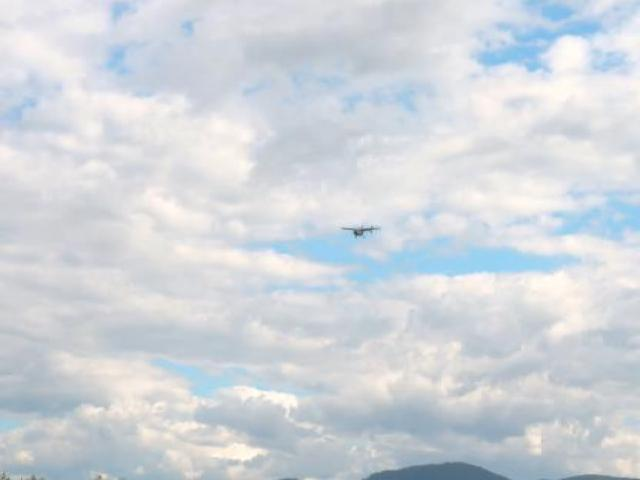uav: (341, 220, 382, 241)
